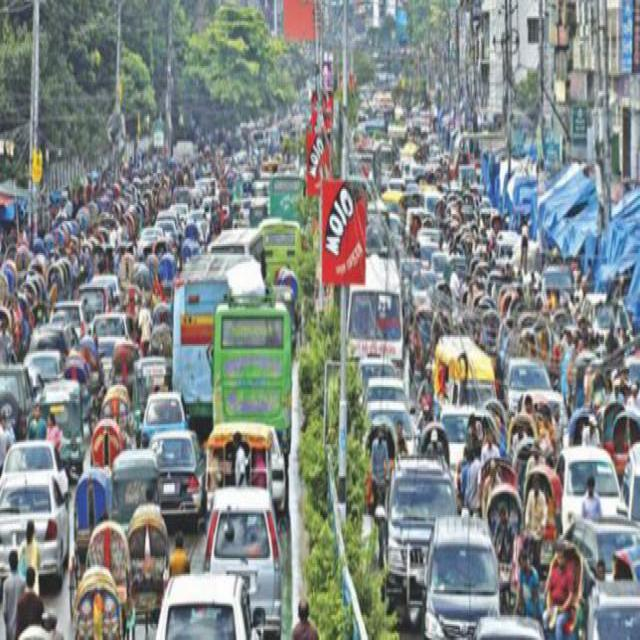Bus: (202, 274, 302, 446)
